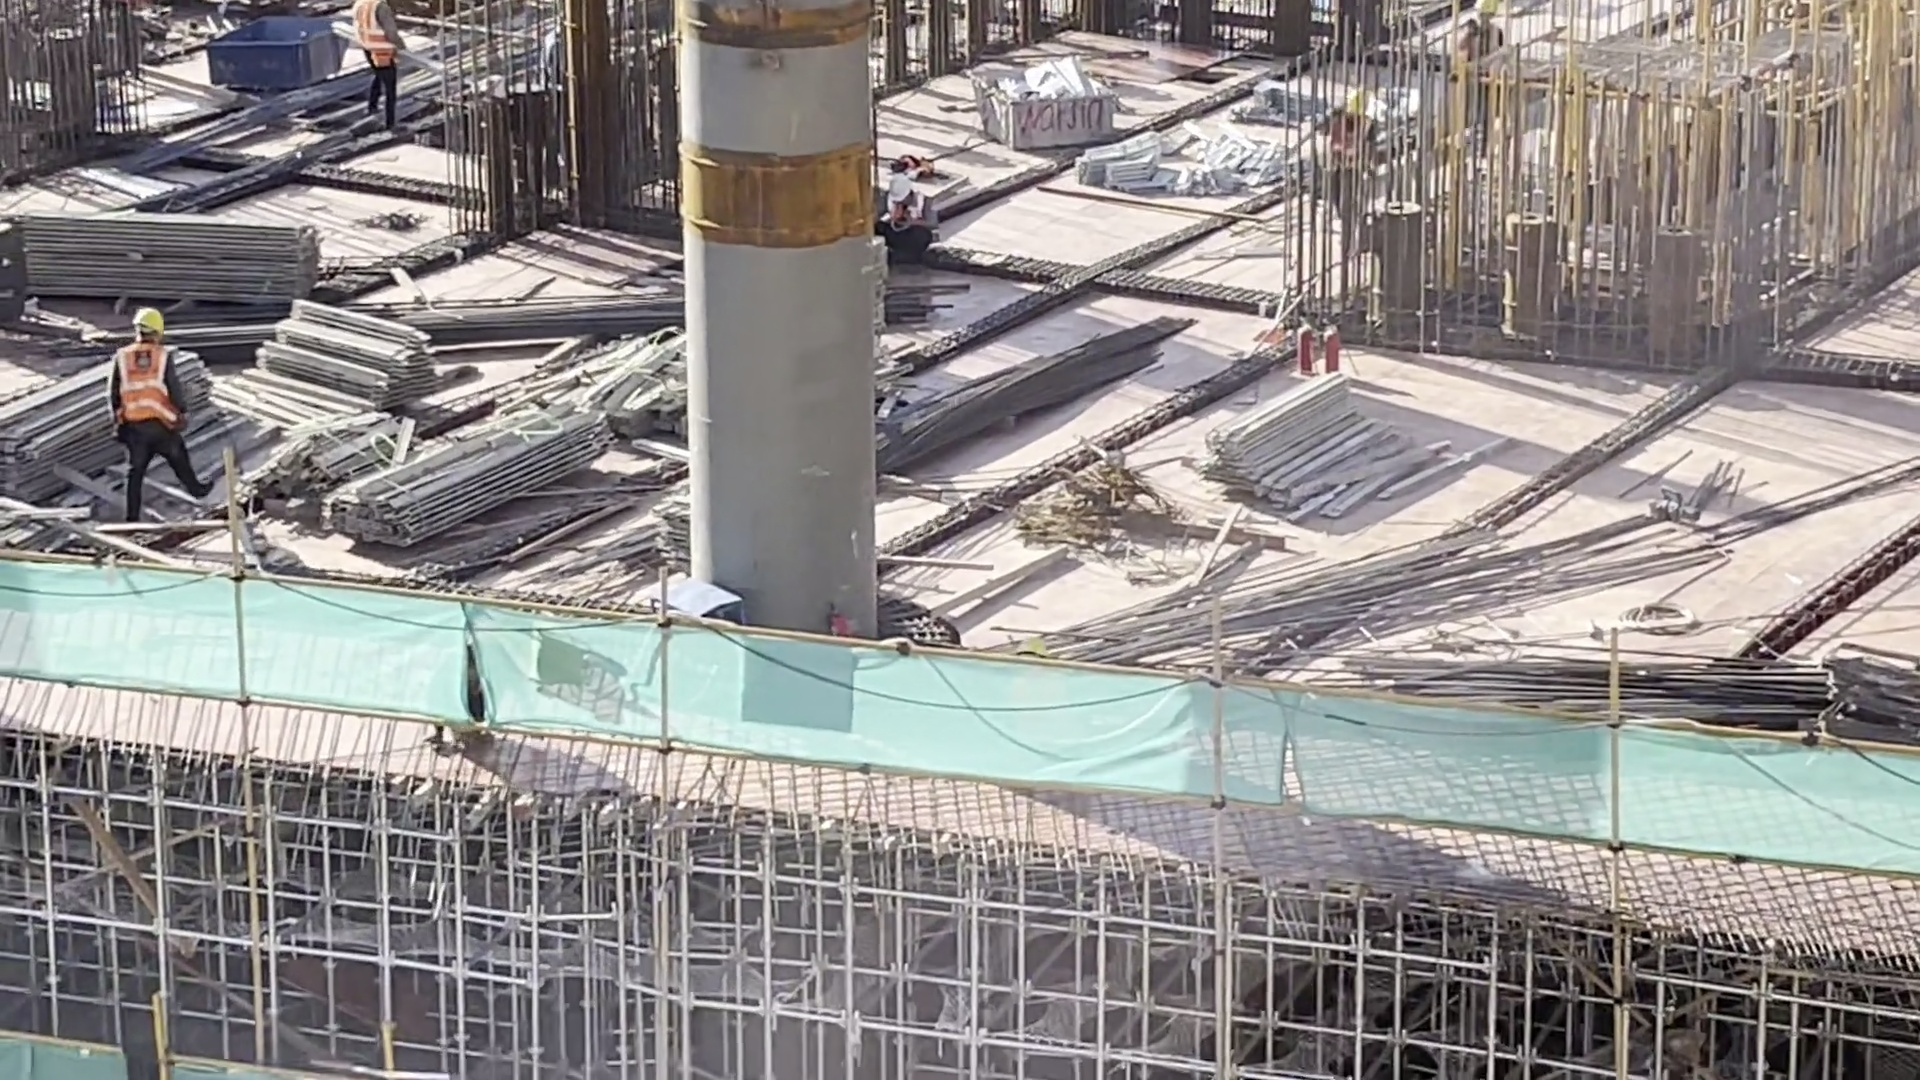helmet: (115, 300, 160, 346), (881, 168, 910, 195)
hopper: (196, 9, 354, 106), (963, 58, 1128, 143)
person: (86, 301, 226, 530), (867, 165, 944, 263)
vest: (103, 337, 177, 432)
wood: (325, 406, 606, 564), (12, 190, 326, 319), (1, 337, 207, 509), (1212, 365, 1399, 524), (262, 295, 437, 422)
